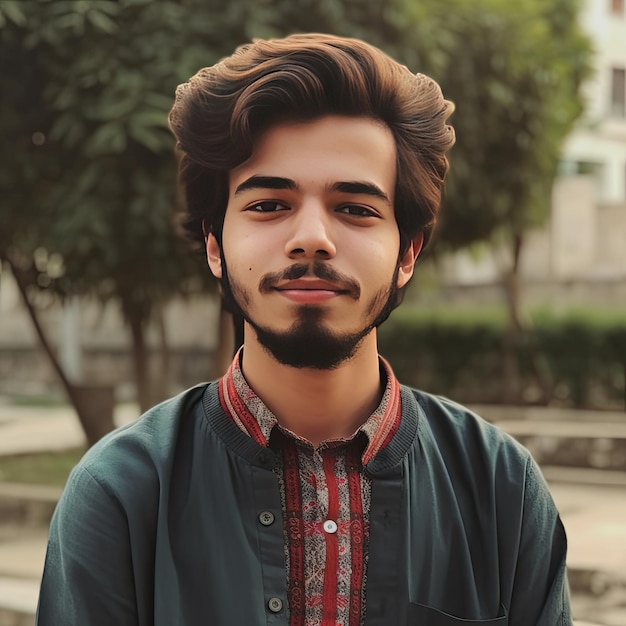young: (200, 79, 426, 360)
